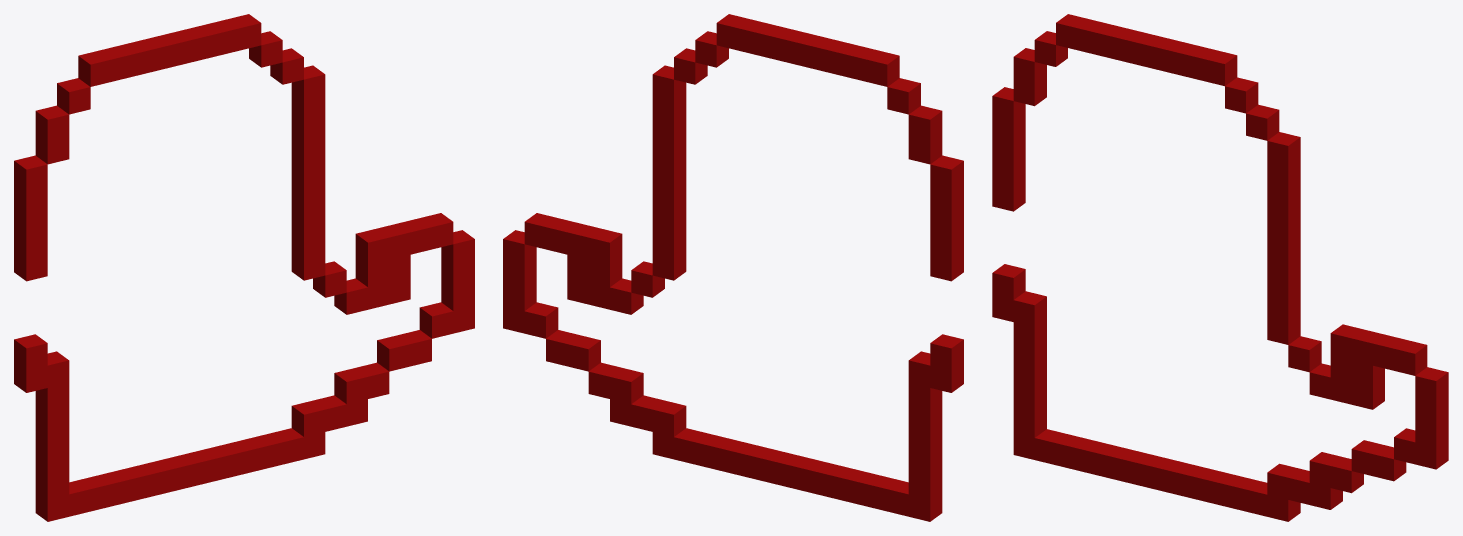
The model's file is seal-8.obj.
3 renders of one model, left to right at view 1: azimuth 30°, elevation 25°; view 2: azimuth 150°, elevation 25°; view 3: azimuth 330°, elevation 25°, orthographic.
Size of the model in its own units: 2.1 by 2 by 0.1.
1 material, 1 textured.
